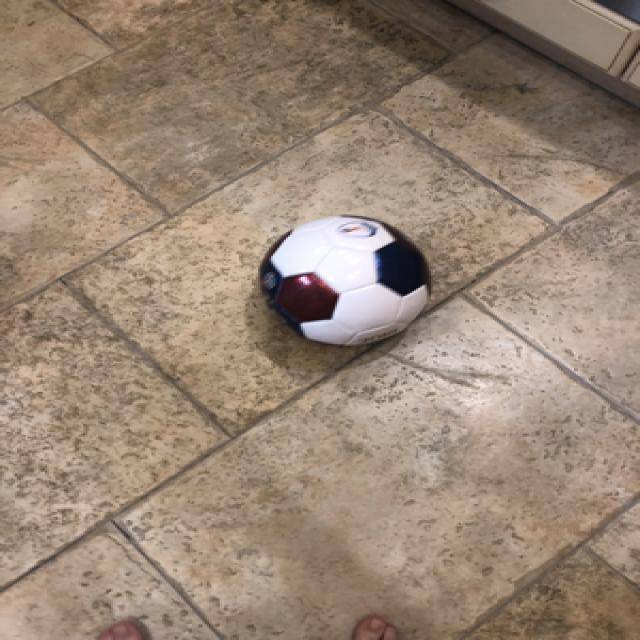soccer_ball: (256, 212, 429, 346)
